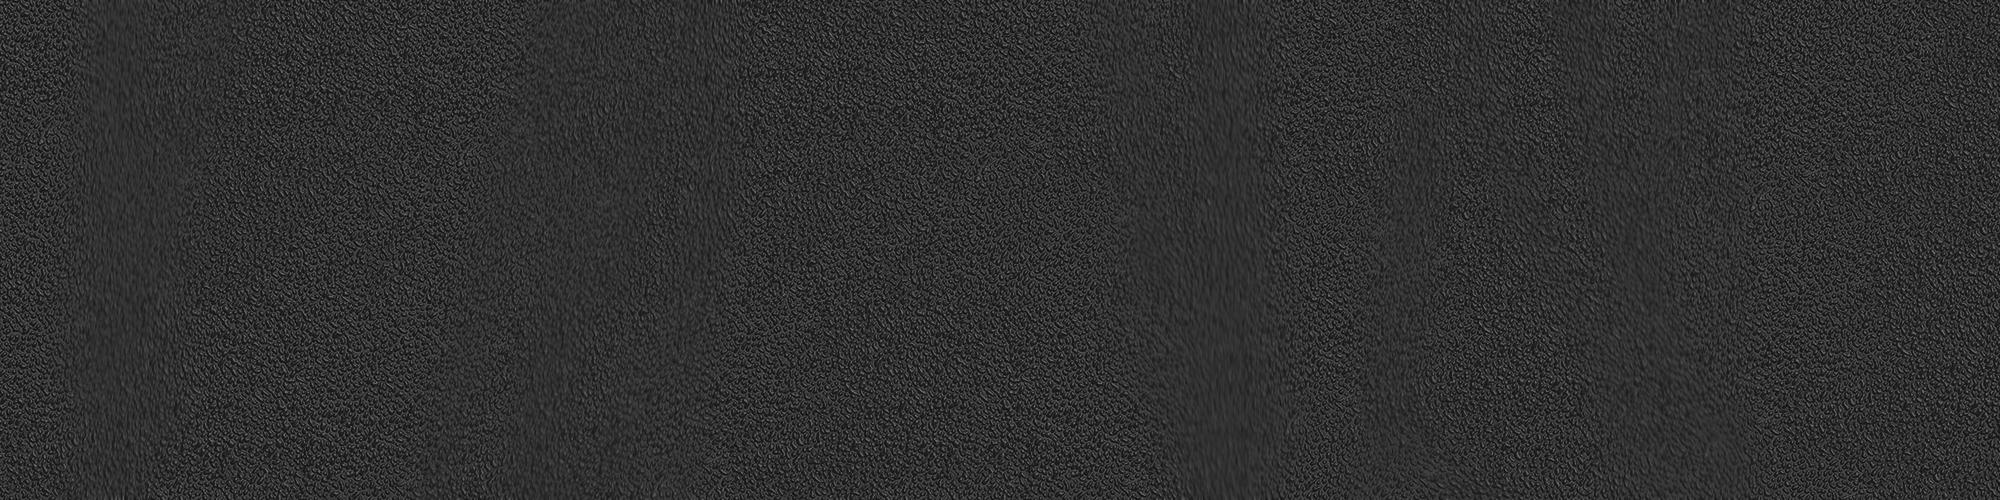Flow_Lines: (1077, 32, 1307, 472), (40, 11, 224, 483)
